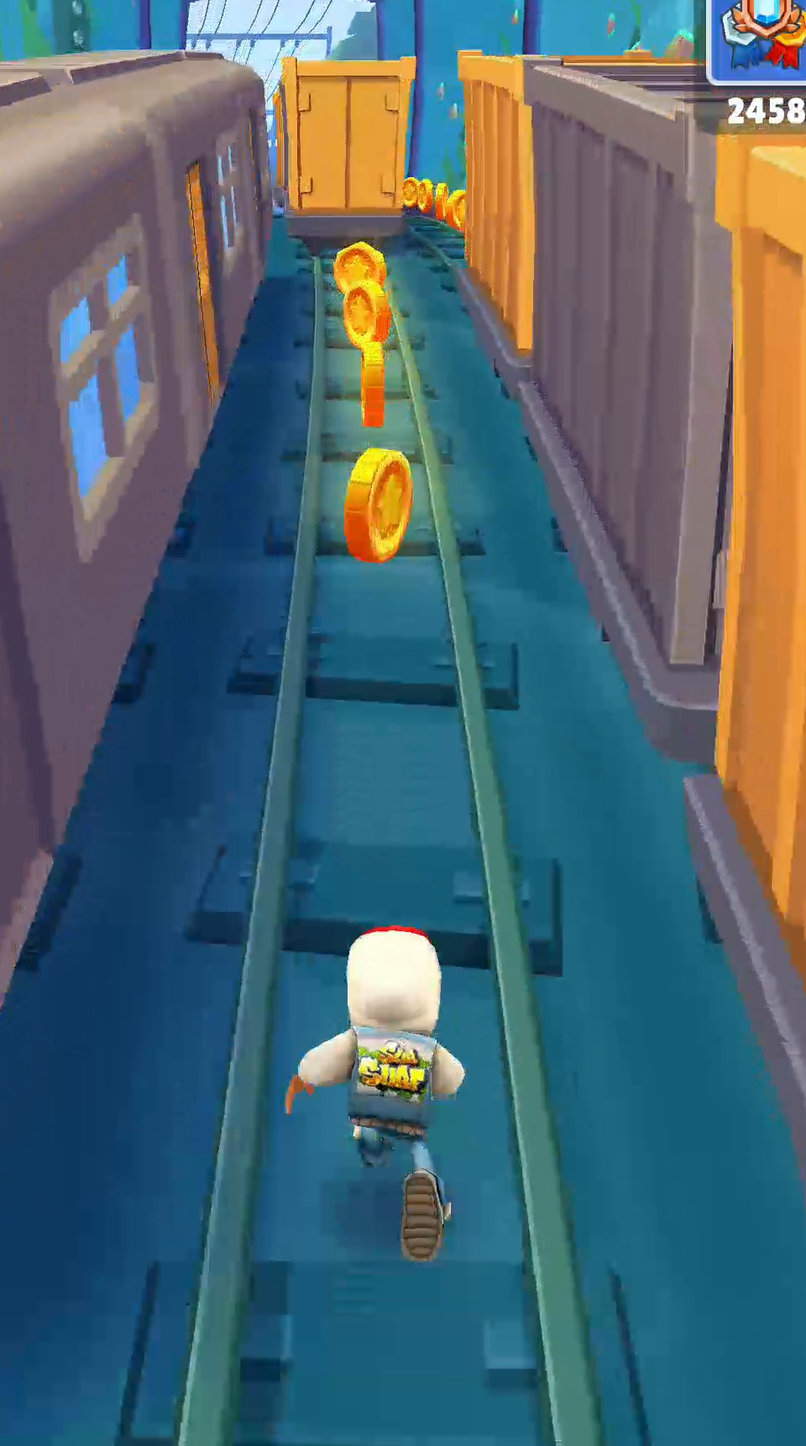train: (0, 50, 270, 993), (523, 64, 731, 760), (716, 136, 805, 943), (459, 52, 535, 369), (284, 58, 416, 238)
